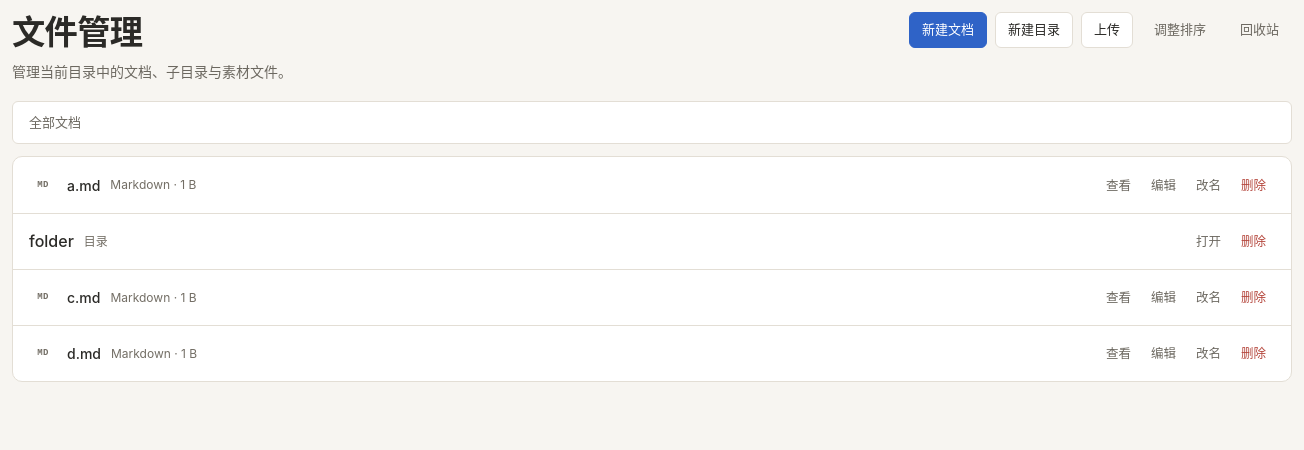
Test case: 目录拖拽排序 › 保存拖动后的完整顺序并重新加载
Click the button with class "order-start".
click(1180, 30)  # box x1=1141 y1=12 x2=1219 y2=48
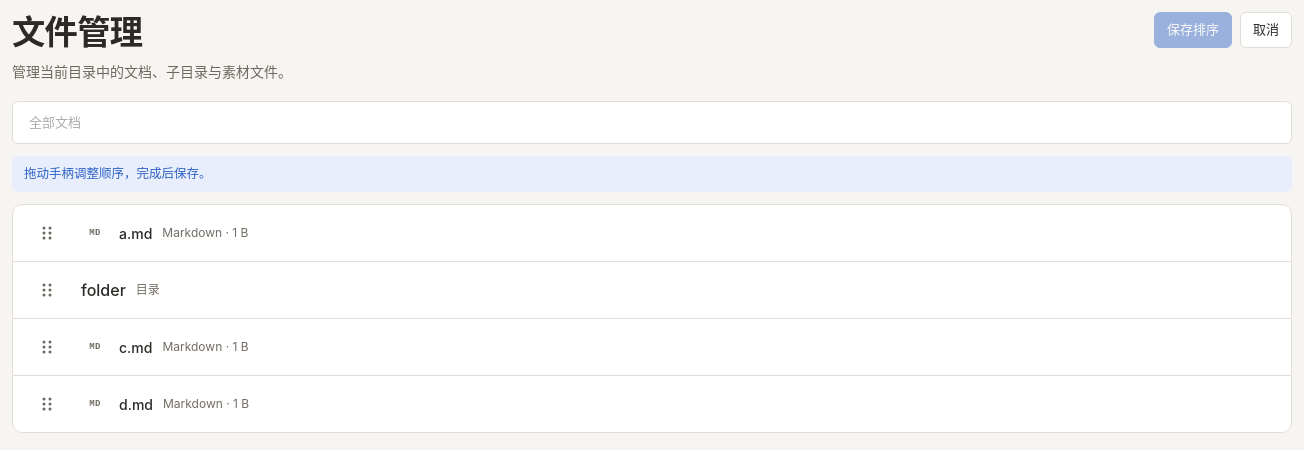
Press the mouse on the 1st button with class "order-handle" at (47, 233), box x1=29 y1=215 x2=65 y2=251
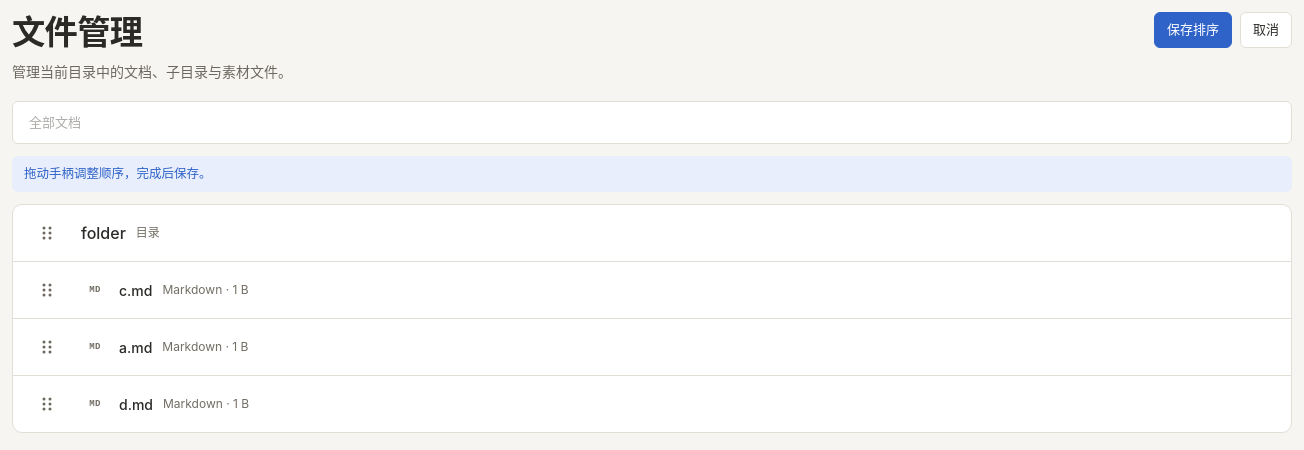
Click the button "保存排序".
click(1193, 30)  # box x1=1154 y1=12 x2=1232 y2=48
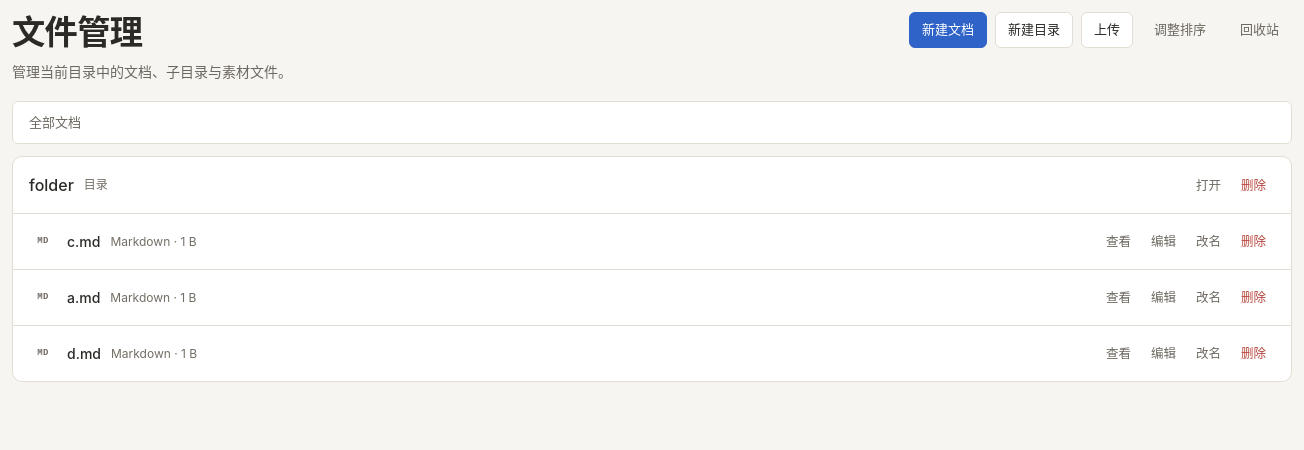
Expected: the button with class "order-handle" is gone
